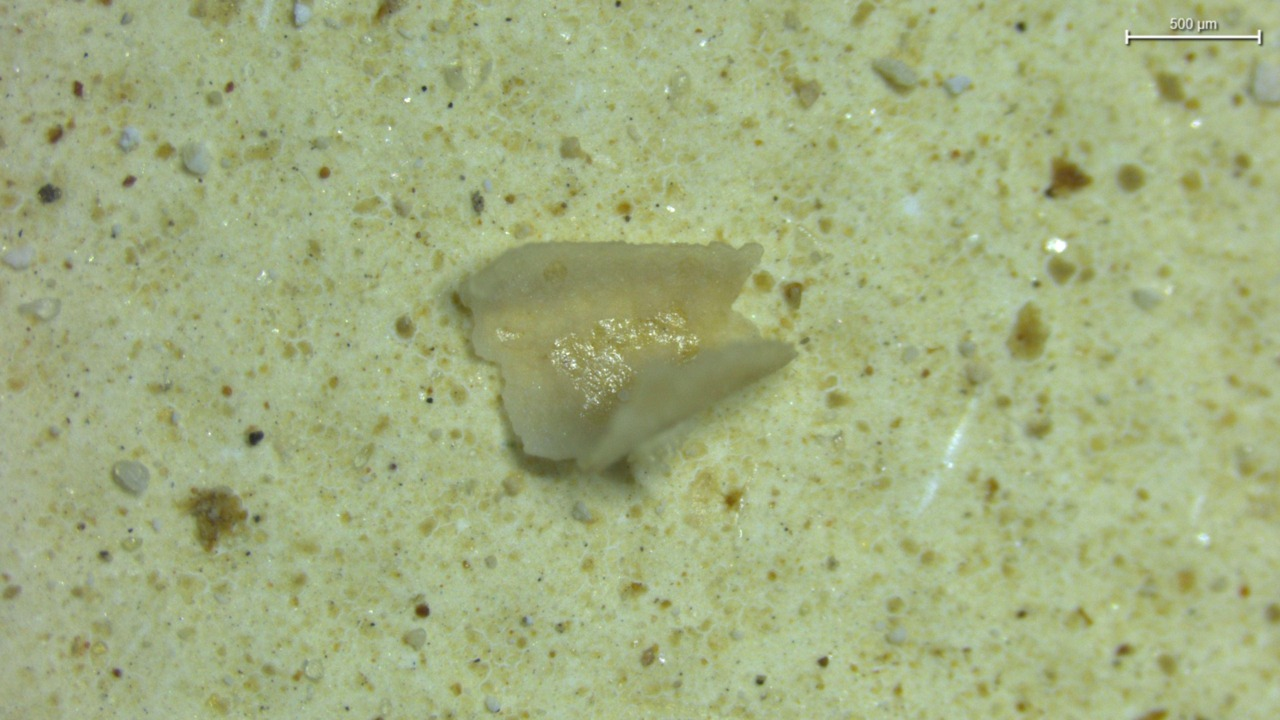microplastic_fragment: (458, 243, 796, 471), (873, 58, 917, 88), (112, 461, 149, 495), (178, 143, 213, 177)
